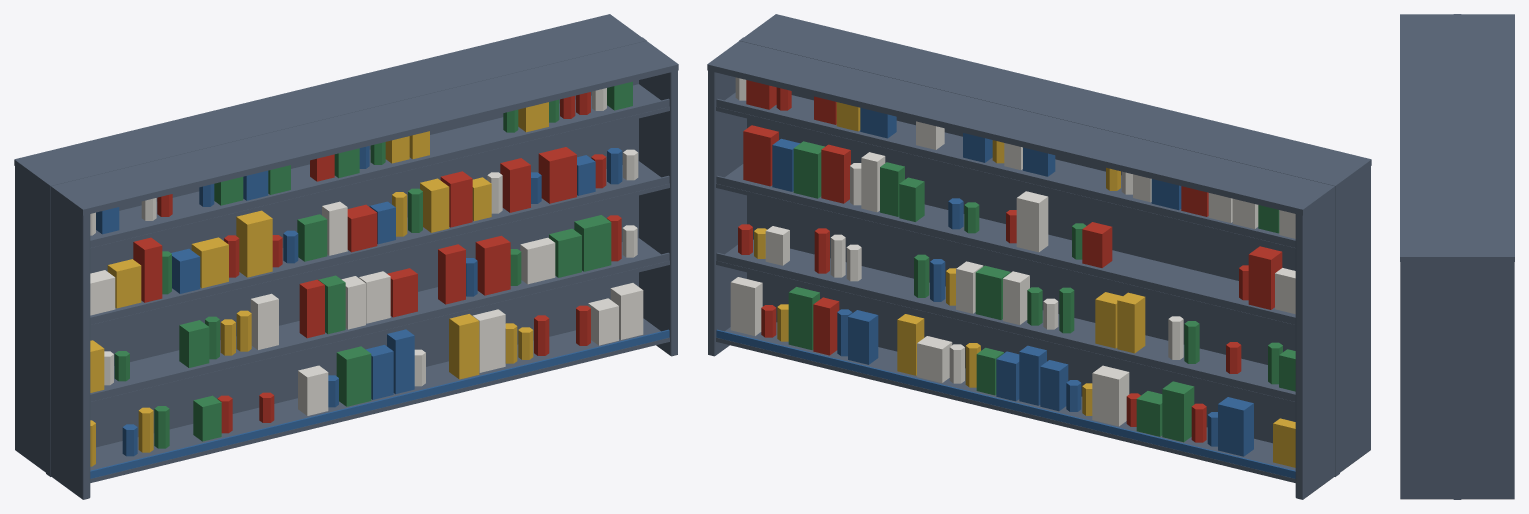
The model's file is shelf_a.glb.
The picture shows the model from 3 angles, left to right: view 1: azimuth 30°, elevation 25°; view 2: azimuth 150°, elevation 25°; view 3: azimuth 270°, elevation 25°; orthographic projection. The views are drawn at different scales.
Visible parts, largest first — view 1: shelf_a; view 2: shelf_a; view 3: shelf_a.
Boxes of the visible parts, box(x1,y1,x2,y2) form: shelf_a: box(14, 14, 678, 499); shelf_a: box(707, 14, 1371, 499); shelf_a: box(1400, 14, 1514, 499).
Size of the model in its own units: 3 by 1.4 by 0.6.
